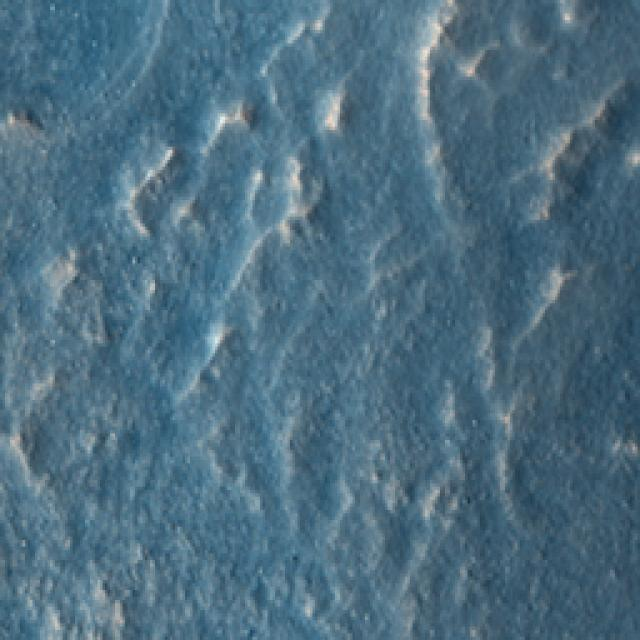Crater: (0, 0, 218, 197)
